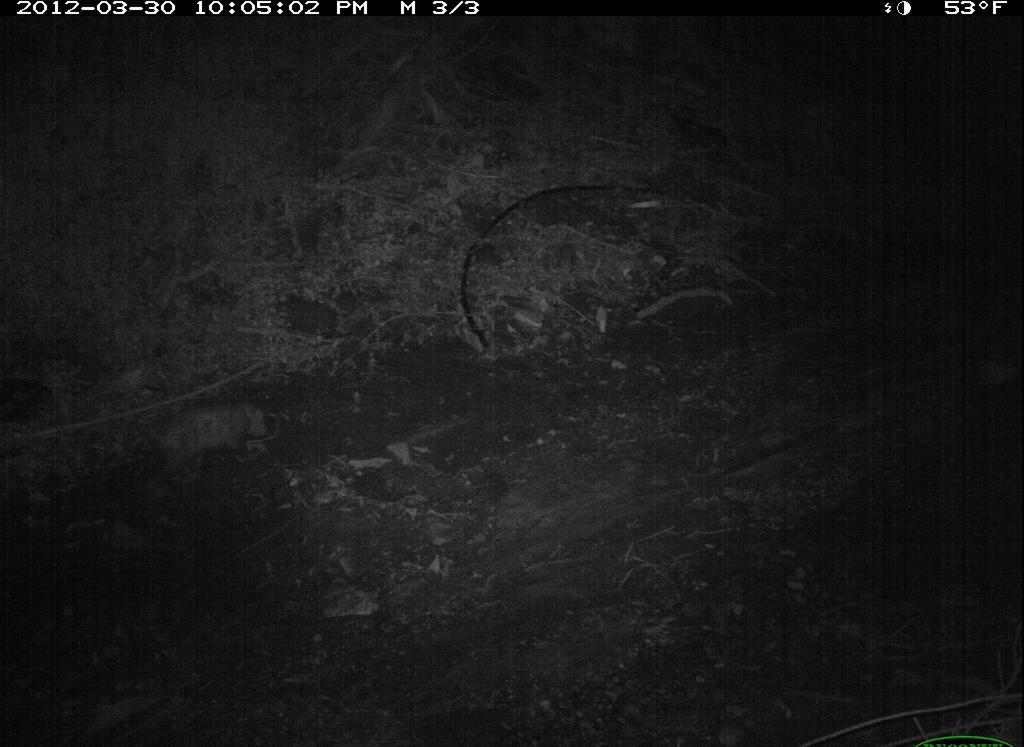opossum: (149, 396, 276, 489)
